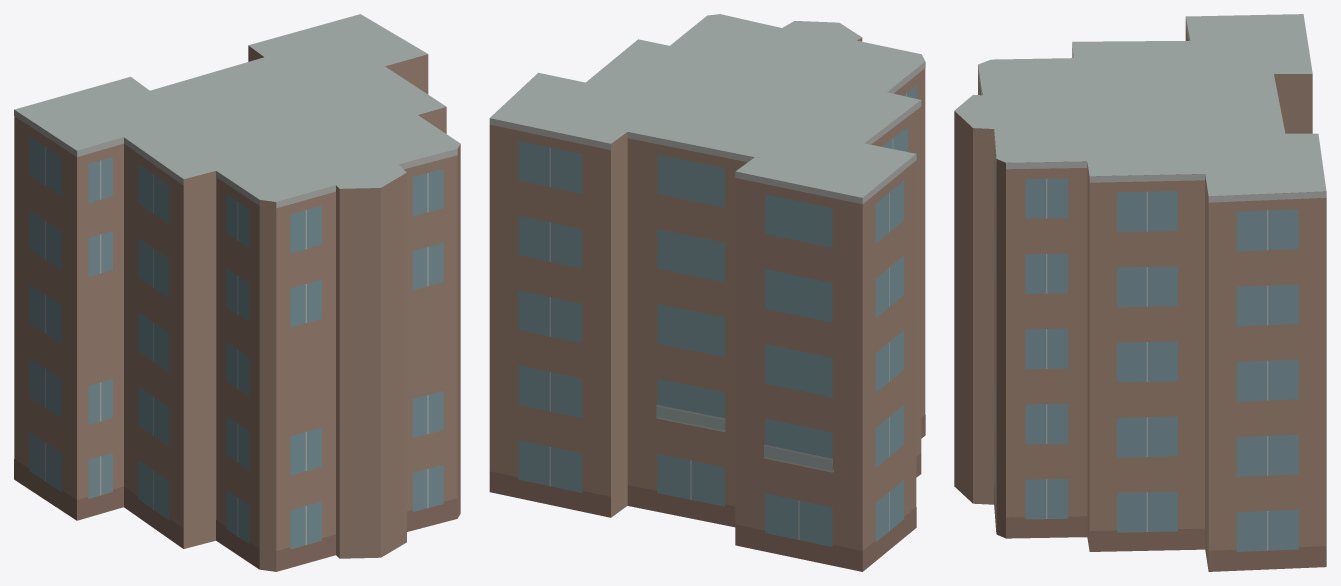
The model's file is survey-upis-32869479.glb.
3 renders of one model, left to right at view 1: azimuth 30°, elevation 25°; view 2: azimuth 150°, elevation 25°; view 3: azimuth 270°, elevation 25°, orthographic.
Parts seen in each view (by area): view 1: survey-upis-32869479.tmp; view 2: survey-upis-32869479.tmp; view 3: survey-upis-32869479.tmp.
Boxes of the visible parts, x1,y1,x2,y2 form: survey-upis-32869479.tmp: [14, 14, 460, 571]; survey-upis-32869479.tmp: [489, 14, 925, 571]; survey-upis-32869479.tmp: [954, 14, 1326, 571].
Size of the model in its own units: 14.78 by 14.2 by 12.76.
